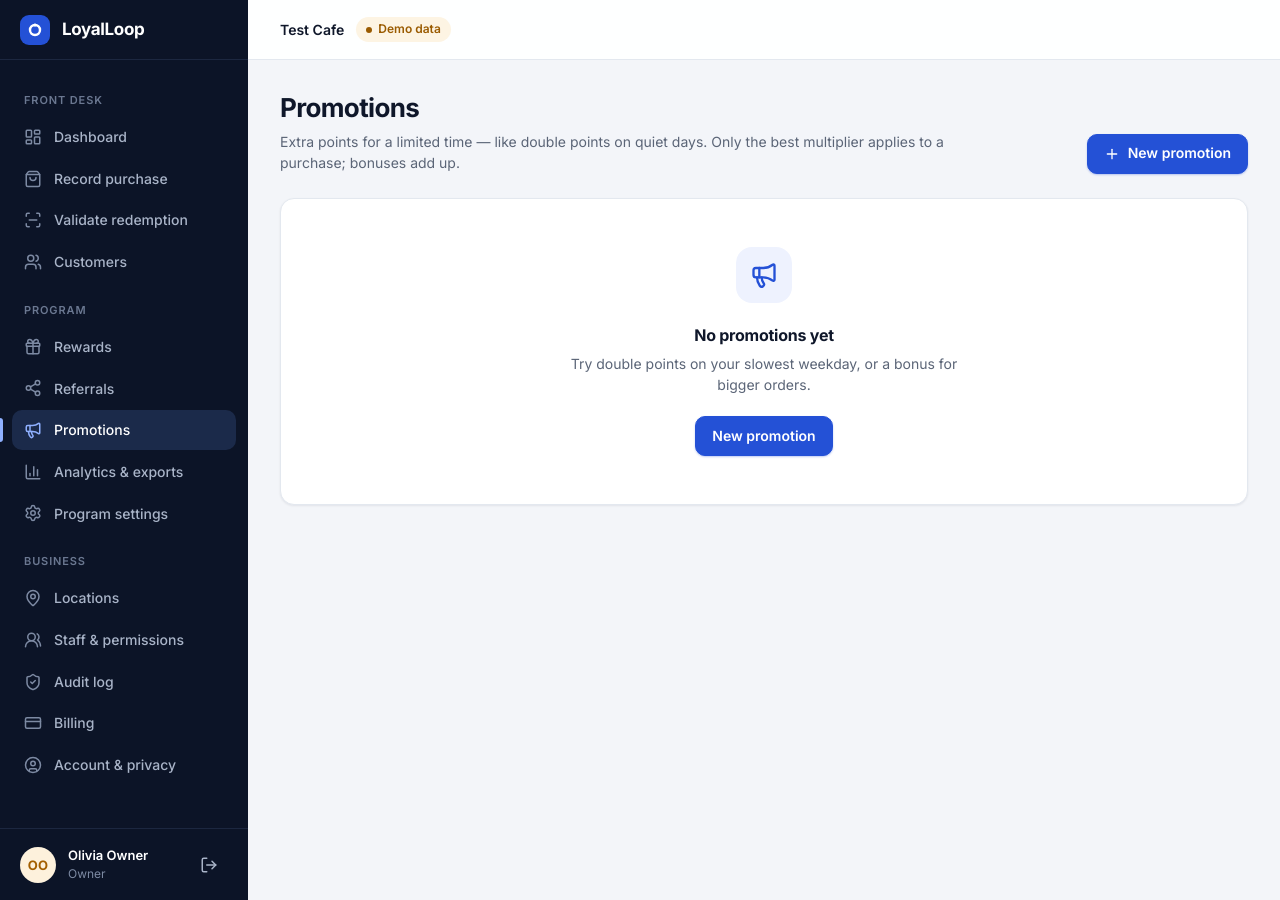
Test: promotions › validates the promotion form
Click the 1st button "New promotion" at [1167, 154], box [1087, 134, 1248, 174]
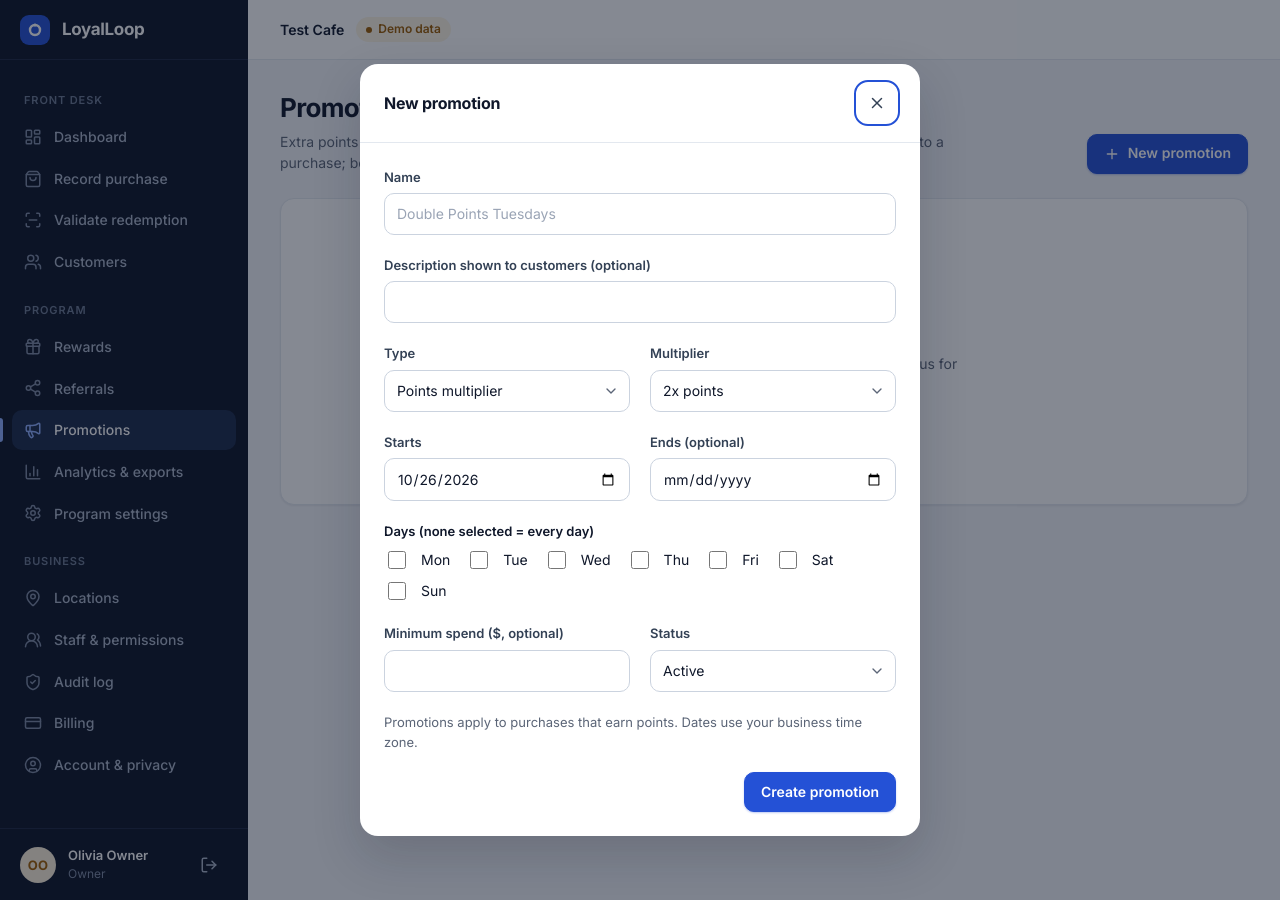
Select "Flat bonus per purchase" in the dropdown labelled "Type" at [507, 390], box [384, 370, 630, 412]
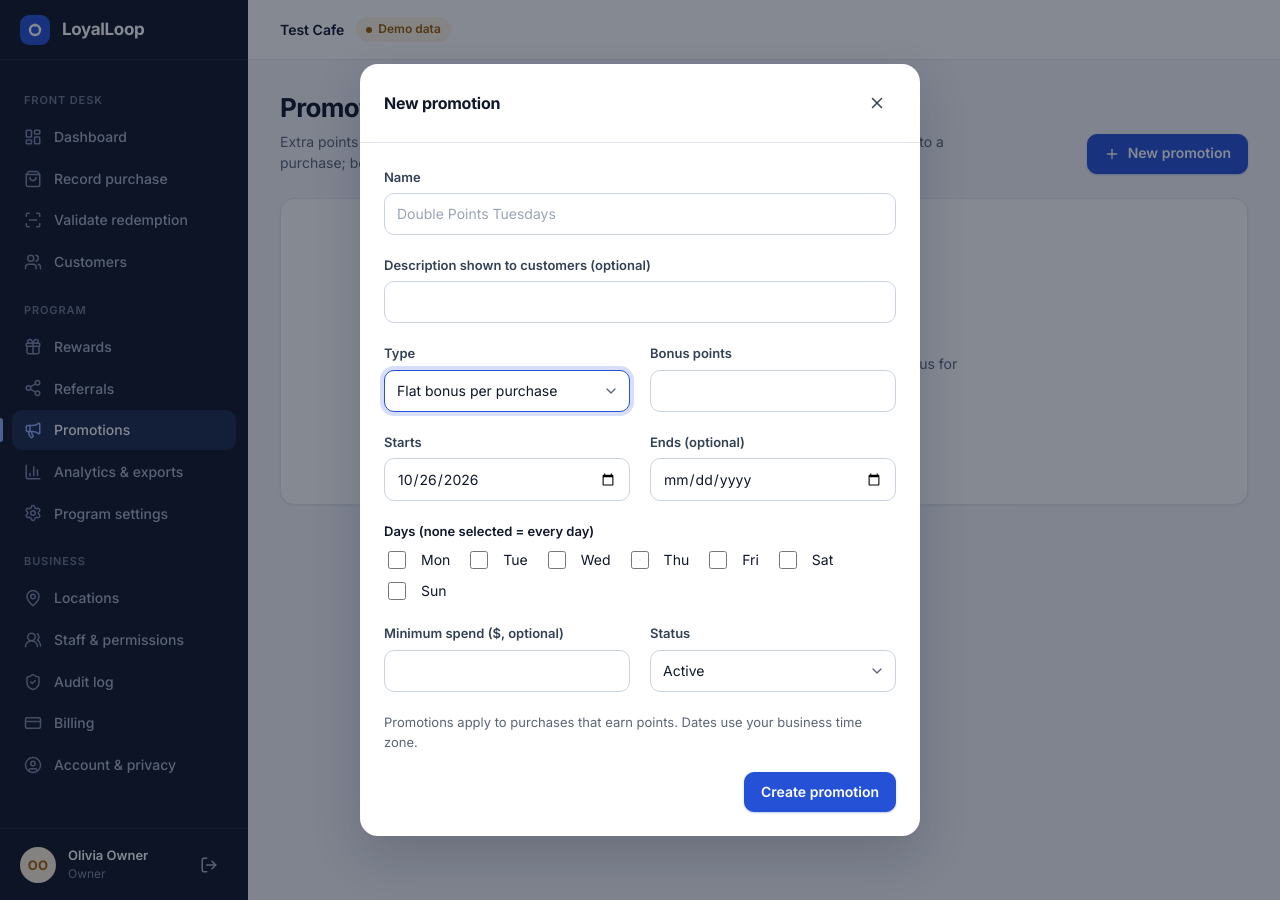
Type "Big order bonus" into the field labelled "Name" at [640, 214], box [384, 193, 896, 235]
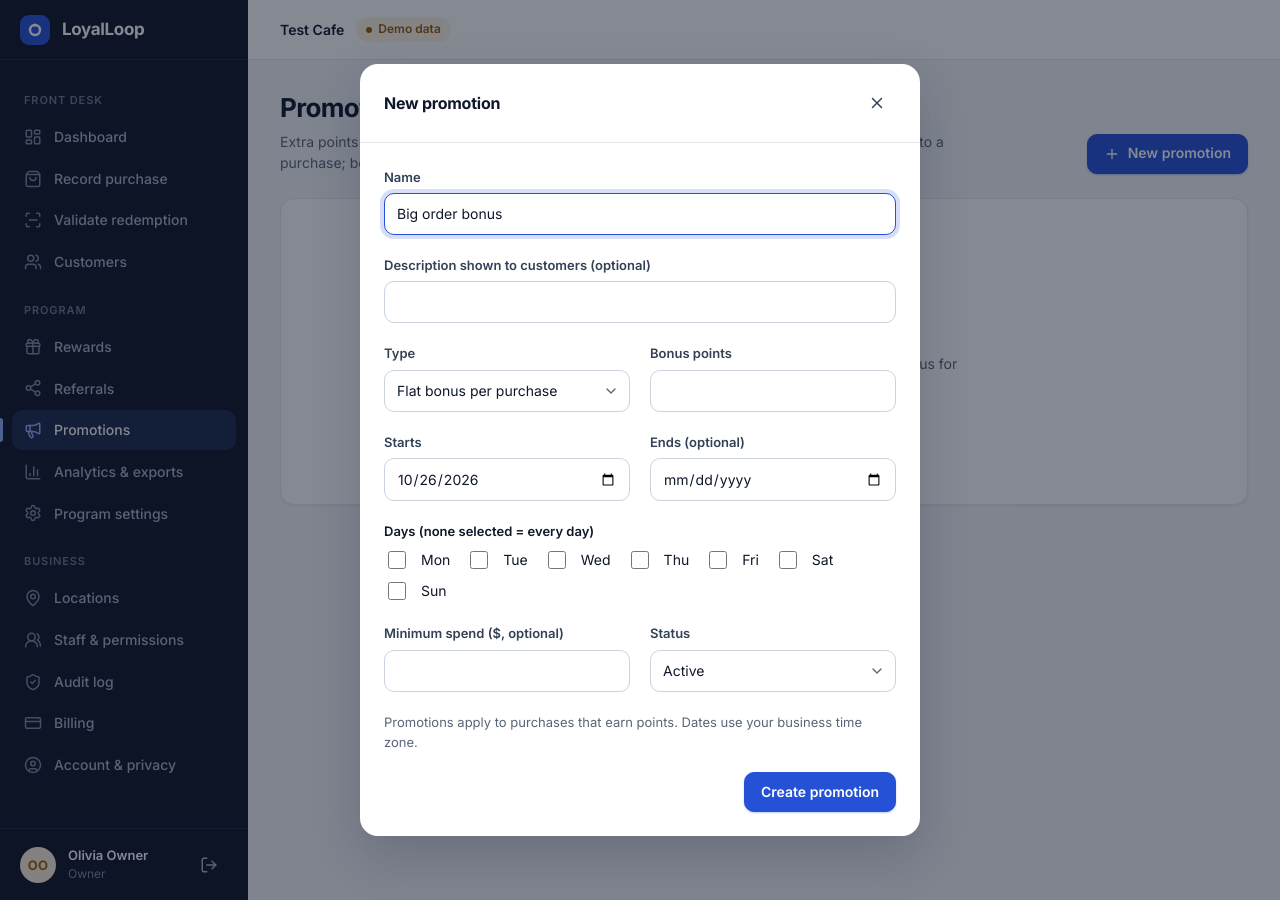
Click the button "Create promotion" at [820, 792], box [744, 772, 896, 812]
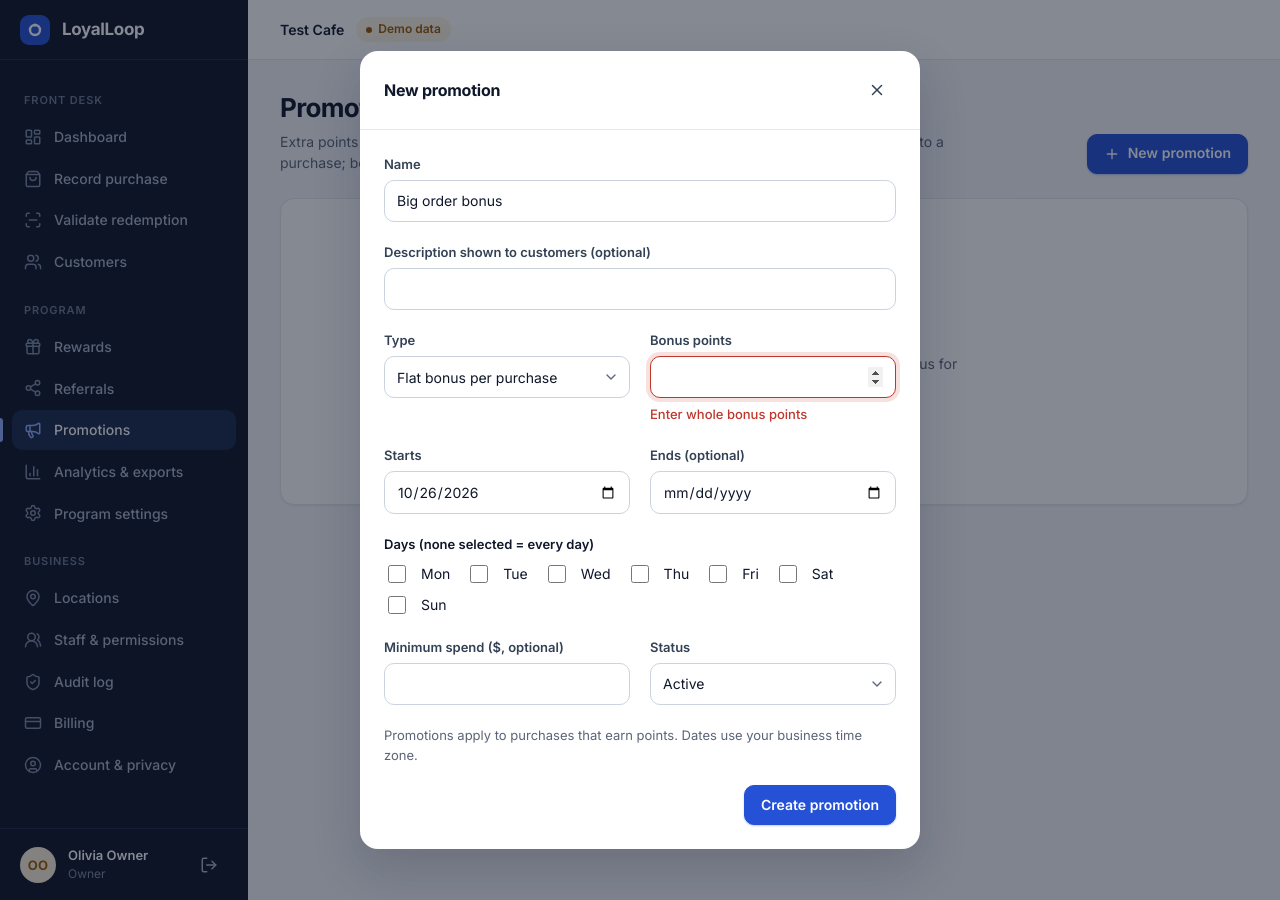
Result: the text "Enter whole bonus points" is shown at [650, 406, 807, 422]
